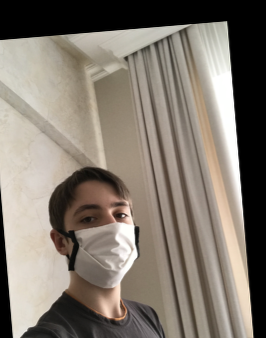with_mask: (66, 196, 141, 290)
